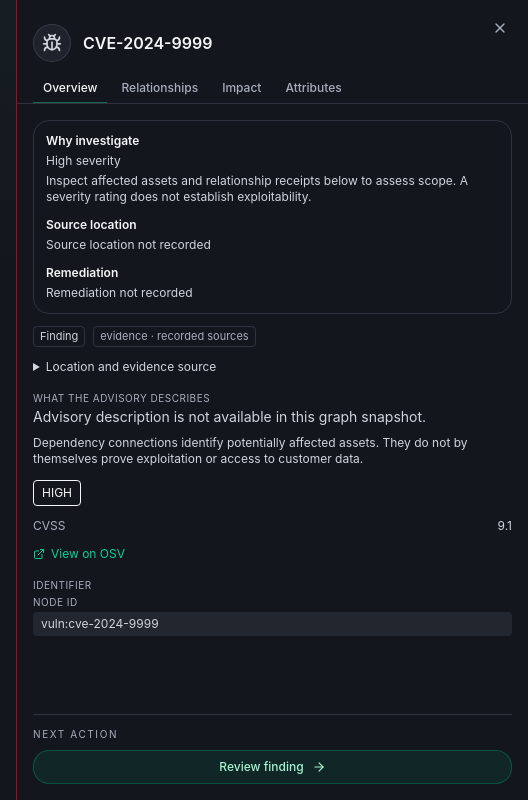
graph entity drawer tabs › switches to Impact and Attributes without dropping their data
Click the tab with test id "graph-drawer-tab-impact": click(242, 89) [212,74,271,104]
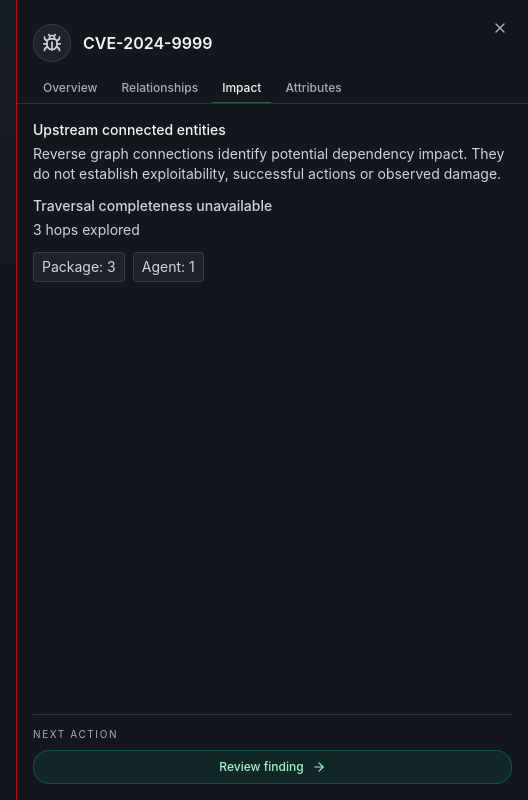
Check: the panel with test id "graph-drawer-panel-impact" is shown, box [33,121,504,282]
Check: the text "Package: 3" is shown, box [33,252,125,282]
Click the tab with test id "graph-drawer-tab-attributes": click(314, 89) [275,74,352,104]
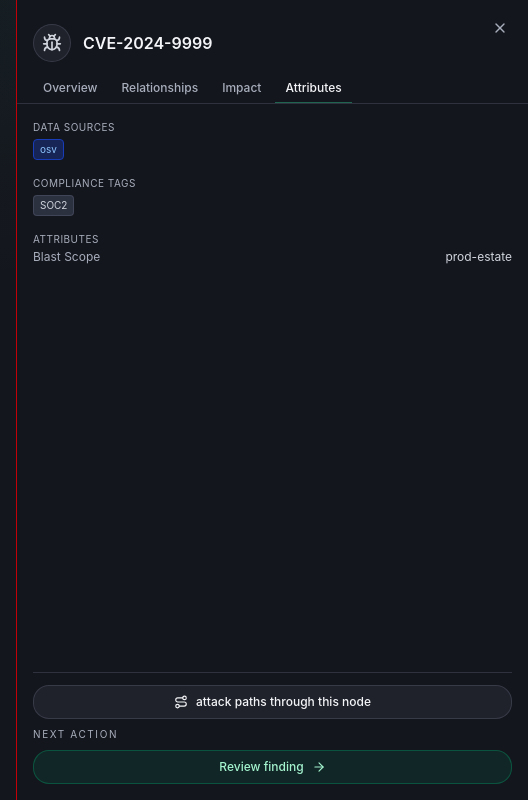
Check: the panel with test id "graph-drawer-panel-attributes" is shown, box [33,121,512,264]
Check: the text "Data Sources" is shown, box [33,121,115,133]
Check: the text "Compliance Tags" is shown, box [33,177,136,189]
